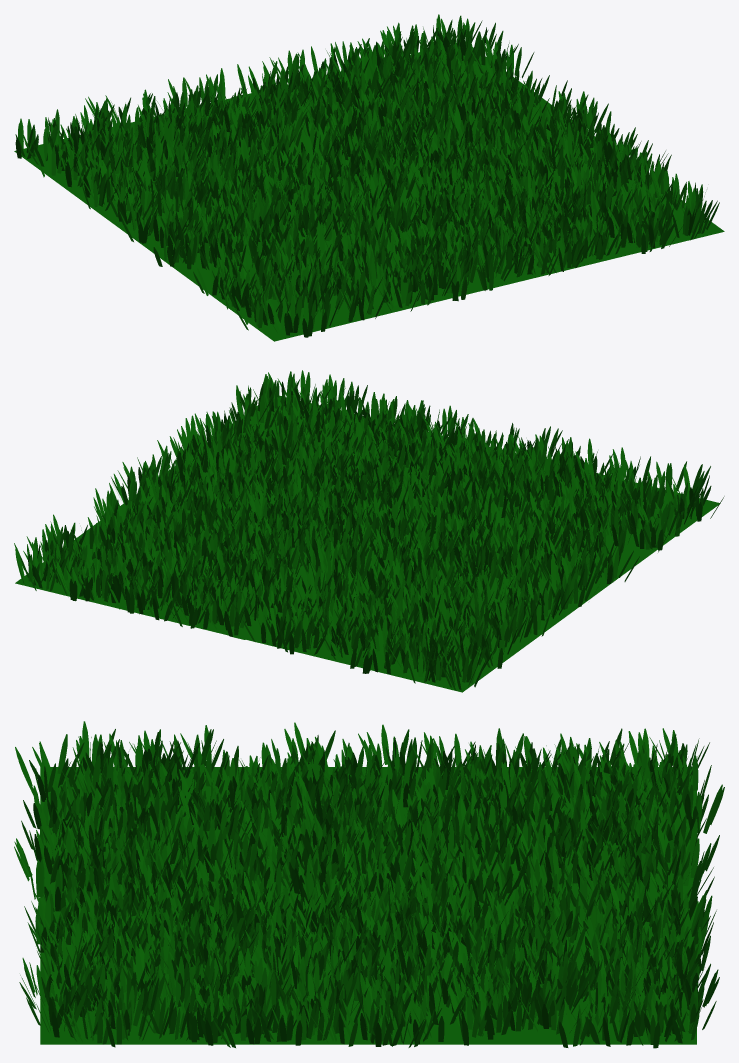
File: grama sem movimento.fbx
The picture shows the model from 3 angles, top to bottom: view 1: azimuth 30°, elevation 25°; view 2: azimuth 150°, elevation 25°; view 3: azimuth 270°, elevation 25°; orthographic projection. The views are drawn at different scales.
Parts seen in each view (by area): view 1: Plane; view 2: Plane; view 3: Plane.
Boxes of the visible parts, x1,y1,x2,y2 form: Plane: [14, 47, 724, 341]; Plane: [15, 395, 720, 692]; Plane: [40, 767, 696, 1044].
Size of the model in its own units: 432 by 21.66 by 431.
